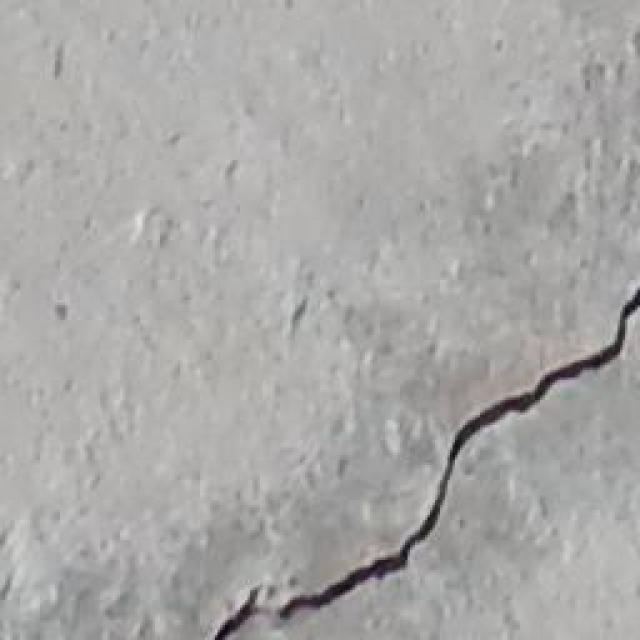concrete-crack: (212, 280, 640, 640)
